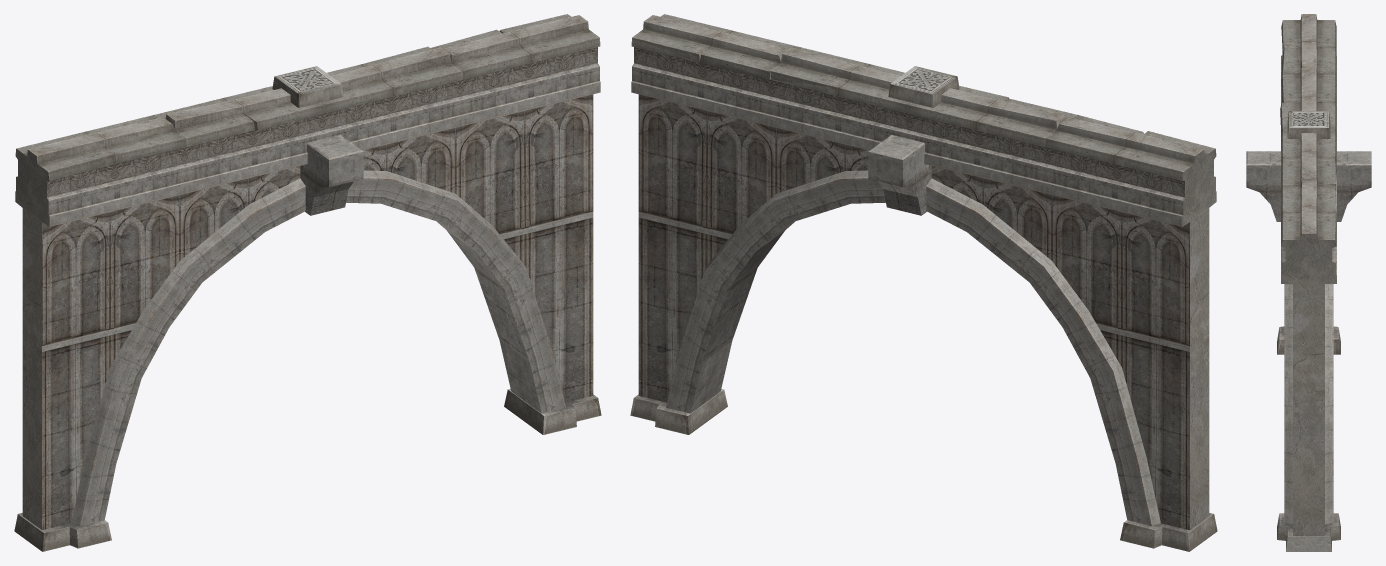
File: bg_lut_lucastle_arch03_sm_ysi.FBX
3 views of the same model, side by side, from view 1: azimuth 30°, elevation 25°; view 2: azimuth 150°, elevation 25°; view 3: azimuth 270°, elevation 25° (orthographic). The views are drawn at different scales.
Visible parts, largest first — view 1: bg_lut_lucastle_arch03_sm_ysi; view 2: bg_lut_lucastle_arch03_sm_ysi; view 3: bg_lut_lucastle_arch03_sm_ysi.
Boxes of the visible parts, box(x1,y1,x2,y2) form: bg_lut_lucastle_arch03_sm_ysi: box(14, 14, 601, 551); bg_lut_lucastle_arch03_sm_ysi: box(630, 14, 1217, 551); bg_lut_lucastle_arch03_sm_ysi: box(1246, 14, 1371, 551).
Size of the model in its own units: 389 by 262 by 92.72.
